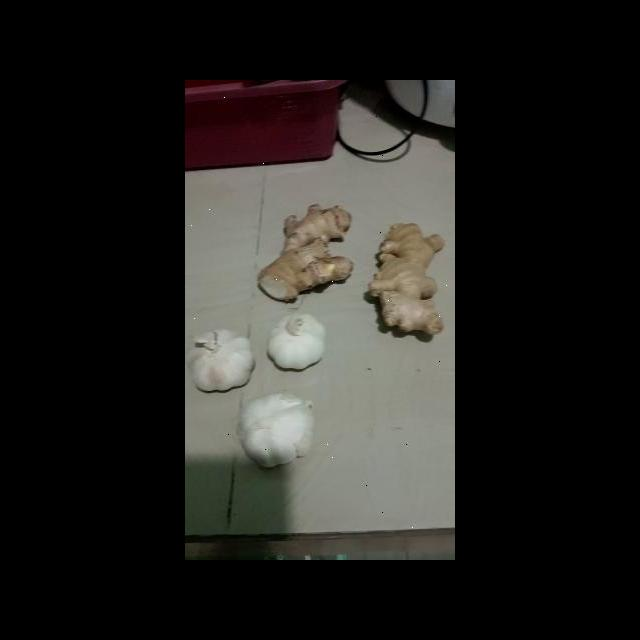garlic: (237, 394, 313, 466), (189, 326, 258, 395), (267, 310, 328, 371)
ginger: (256, 200, 356, 305), (368, 222, 446, 340)
